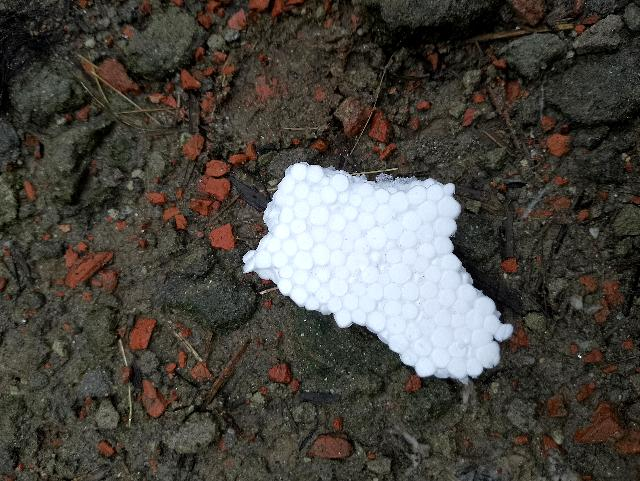cocksheet: (228, 144, 528, 406)
